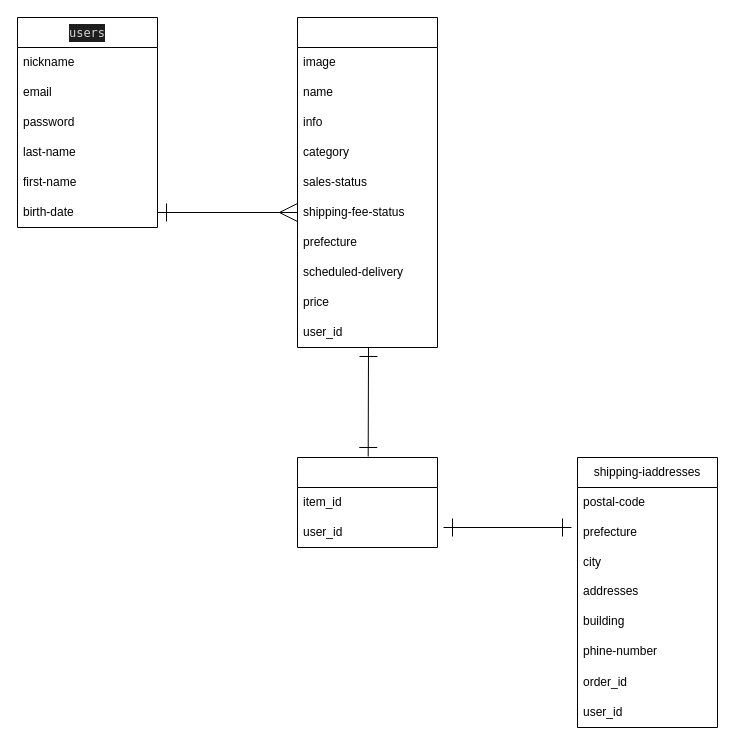
Image size: 735x745. Some labels were removed from this diagram. Each missing label, with the box of its shape:
Items: (296, 16, 438, 348)
orders: (296, 456, 438, 548)
